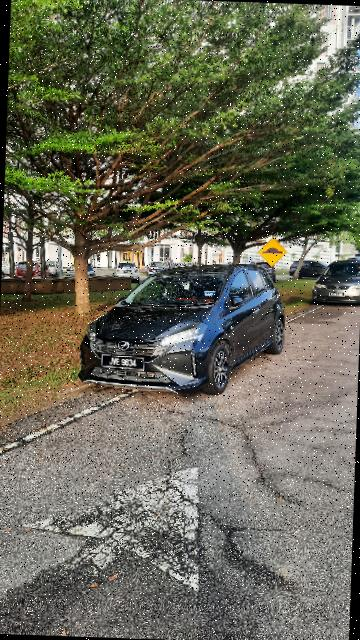License_Plate: (98, 350, 150, 376)
car: (73, 258, 295, 398)
